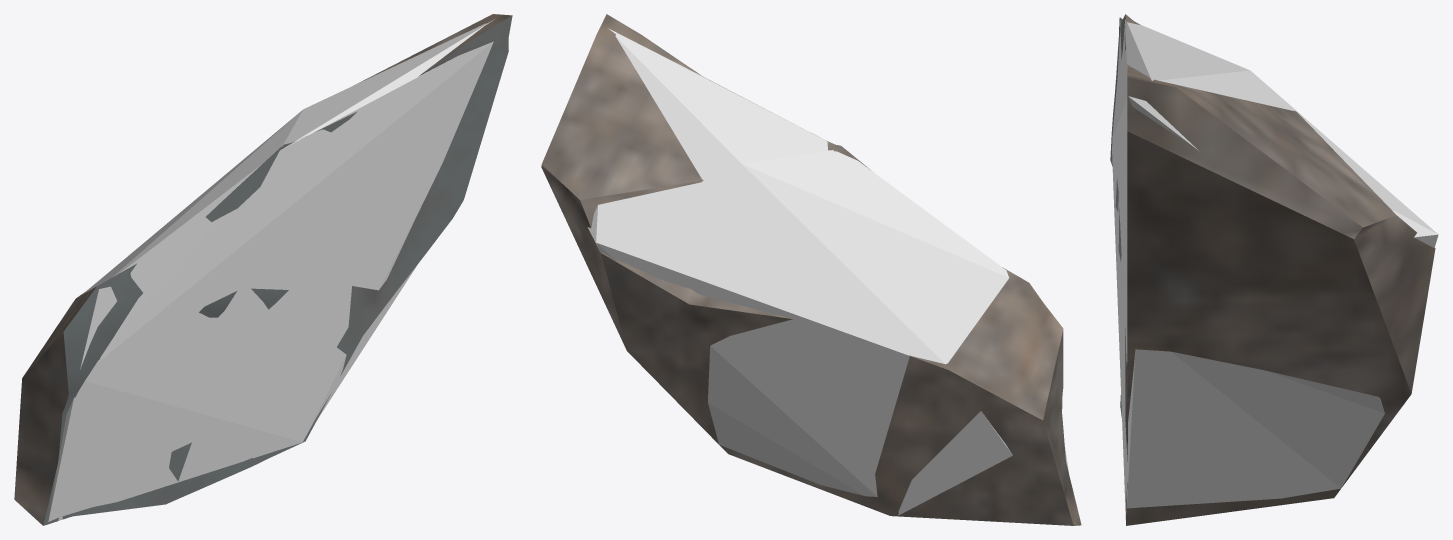
File: SM_Rock_27.fbx
3 renders of one model, left to right at view 1: azimuth 30°, elevation 25°; view 2: azimuth 150°, elevation 25°; view 3: azimuth 270°, elevation 25°, orthographic. The views are drawn at different scales.
Parts seen in each view (by area): view 1: SM_Rock_27_ConvexHulls, SM_Rock_27_LOD0; view 2: SM_Rock_27_ConvexHulls, SM_Rock_27_LOD0; view 3: SM_Rock_27_LOD0, SM_Rock_27_ConvexHulls.
Boxes of the visible parts, left/top/right/bottom form: SM_Rock_27_ConvexHulls: left=48, top=19, right=494, bottom=521; SM_Rock_27_LOD0: left=14, top=14, right=512, bottom=525; SM_Rock_27_ConvexHulls: left=587, top=28, right=1069, bottom=515; SM_Rock_27_LOD0: left=541, top=14, right=1081, bottom=525; SM_Rock_27_LOD0: left=1110, top=14, right=1435, bottom=525; SM_Rock_27_ConvexHulls: left=1112, top=19, right=1438, bottom=519.
Bounding box in the file's own units: 32.22 × 11.62 × 25.82.
